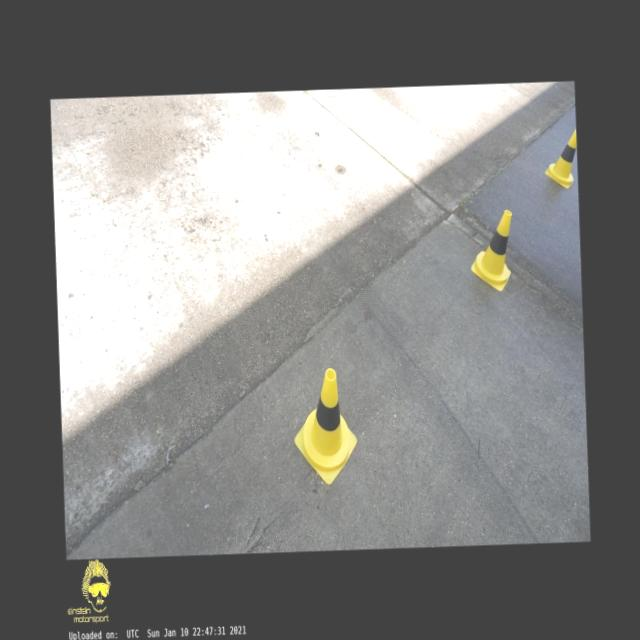yellow_cone: (292, 367, 358, 484), (468, 208, 514, 292), (544, 128, 578, 189)
